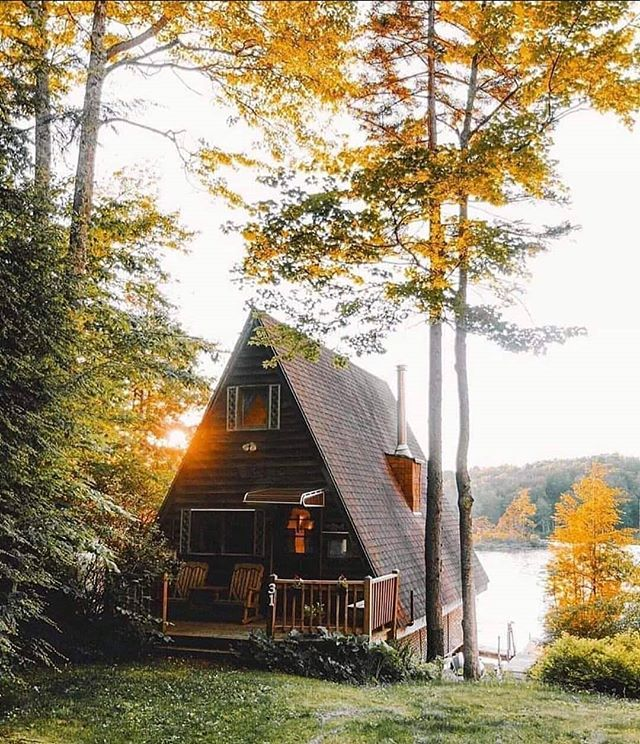building: (143, 331, 467, 646)
tree: (231, 3, 640, 679), (1, 1, 232, 328), (523, 473, 640, 692)
